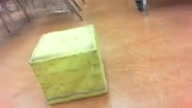cube: (28, 24, 107, 104)
